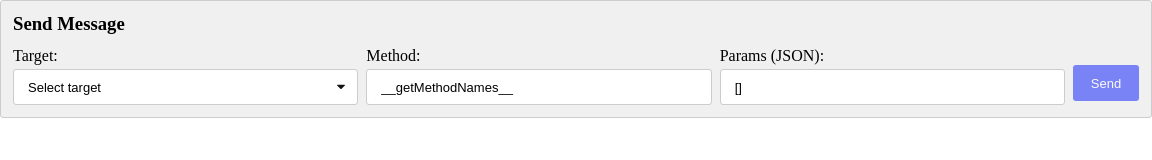
Test: SendMessageForm Component › disables Send button when target is empty
This screenshot has width=1152, height=160.
Expected: the button with test id "message-send-button" is disabled, [1073,65,1139,101]
# Select a target
Select "kref1 (TestVat1)" in the dropdown with test id "message-target" at (186, 87), box [13,69,358,105]
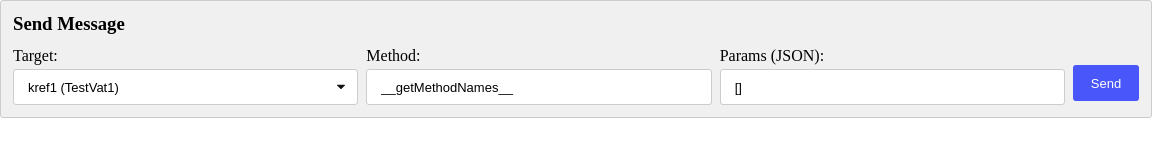
Expected: the button with test id "message-send-button" is enabled, [1073,65,1139,101]
# Clear method
Clear the field with test id "message-method" at (539, 87), box [366,69,712,105]
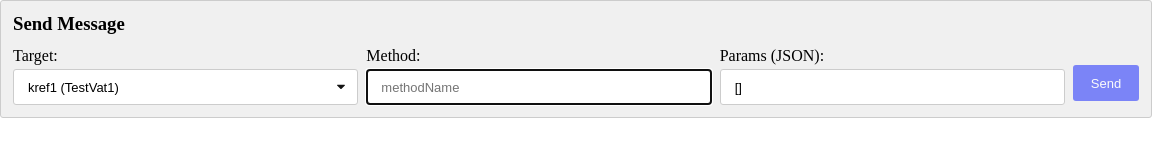
Expected: the button with test id "message-send-button" is disabled, [1073,65,1139,101]
